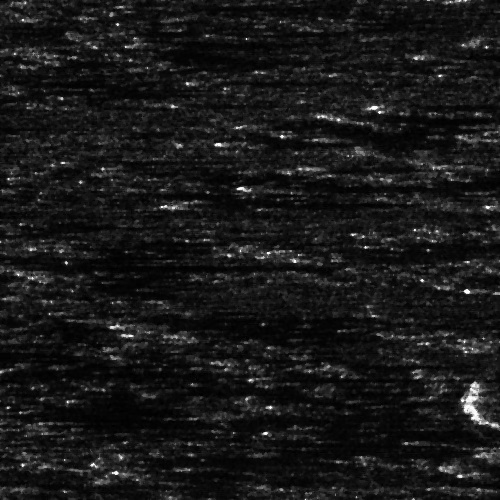object: (39, 301, 164, 334), (152, 196, 215, 209), (434, 130, 500, 139), (261, 165, 344, 172), (390, 51, 463, 58), (179, 78, 252, 83), (254, 185, 307, 190), (0, 263, 25, 268), (476, 285, 497, 290)
shadow: (102, 301, 335, 334), (184, 196, 371, 209), (5, 263, 294, 268), (281, 185, 500, 190), (216, 78, 350, 83), (427, 51, 500, 58), (303, 165, 368, 172)
